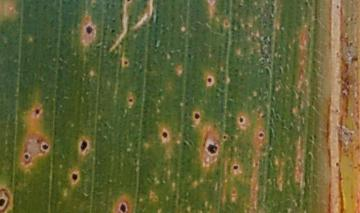tarspot: (77, 138, 91, 154), (206, 142, 219, 156), (83, 23, 96, 36), (159, 129, 170, 143), (32, 106, 43, 119), (39, 141, 52, 151), (191, 111, 204, 121), (69, 172, 80, 183), (236, 115, 247, 126), (118, 201, 128, 213), (121, 57, 130, 69), (219, 134, 232, 142), (126, 96, 136, 106), (205, 75, 214, 86), (257, 130, 266, 141), (231, 162, 240, 173), (22, 152, 31, 162), (1, 197, 8, 209)
